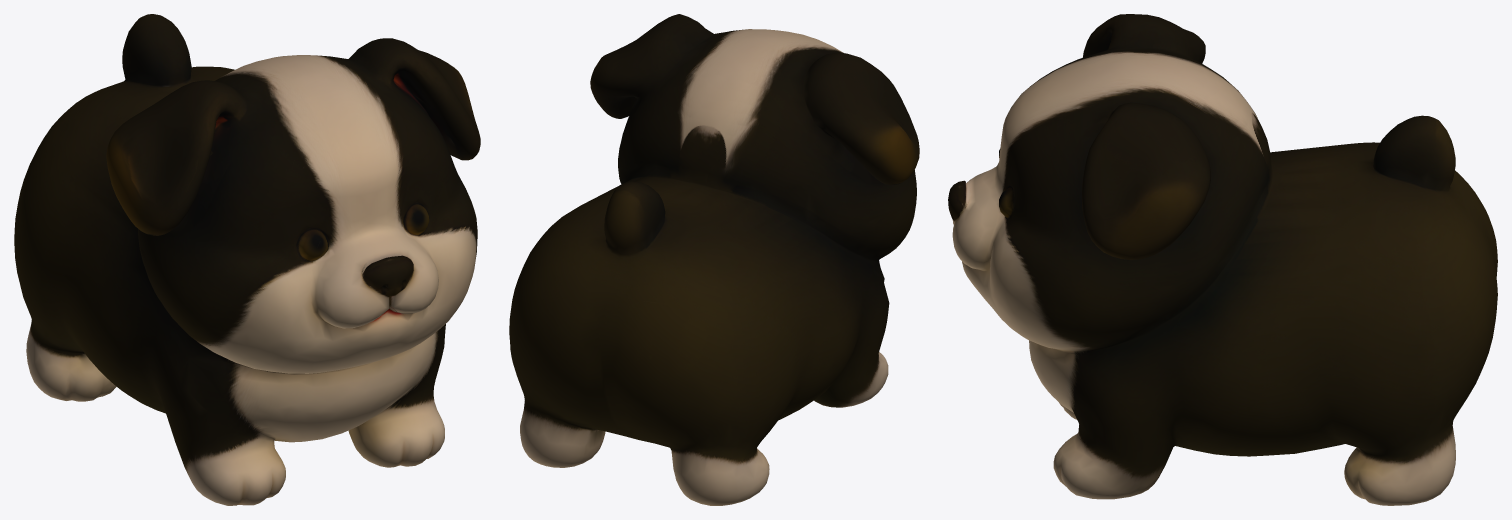
Rendered from A-dog.glb.
The picture shows the model from 3 angles, left to right: view 1: azimuth 30°, elevation 25°; view 2: azimuth 150°, elevation 25°; view 3: azimuth 270°, elevation 25°; orthographic projection. The views are drawn at different scales.
Parts seen in each view (by area): view 1: material; view 2: material; view 3: material.
Boxes of the visible parts, box(x1,y1,x2,y2) form: material: box(14, 14, 480, 505); material: box(509, 14, 919, 505); material: box(948, 14, 1497, 505).
Size of the model in its own units: 1.35 by 1.49 by 1.9.
1 material, 1 textured.
